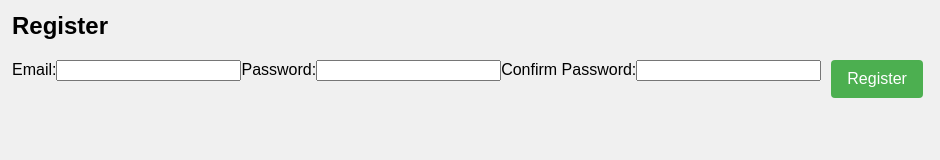
Test case: Register component › handles registration failure
This screenshot has width=940, height=160.
Type "test@example.com" into the field labelled "Email:". click: x=149, y=70
box: [56,60,242,81]
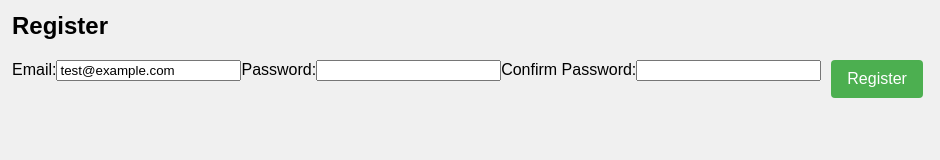
Type "password123" into the password field labelled "Password:". click: x=409, y=70
box: [316,60,501,81]
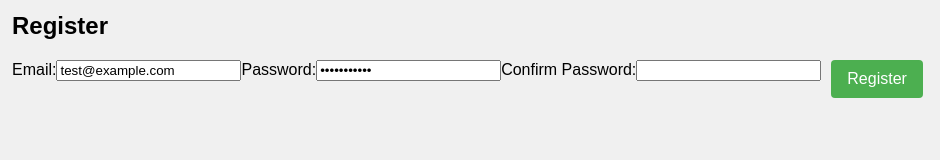
Type "password123" into the password field labelled "Confirm Password:". click: x=729, y=70
box: [636,60,821,81]
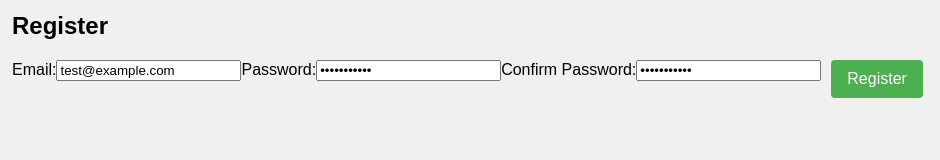
Click the button "Register". click: x=877, y=79
box: [831,60,923,98]
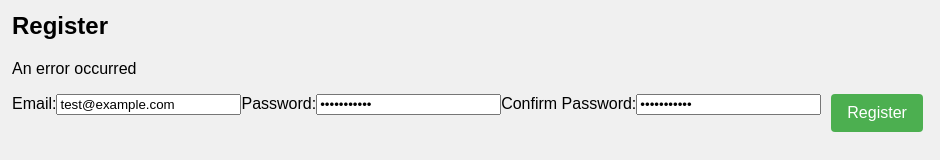
Expected: the text "An error occurred" is shown, [12,60,136,77]
